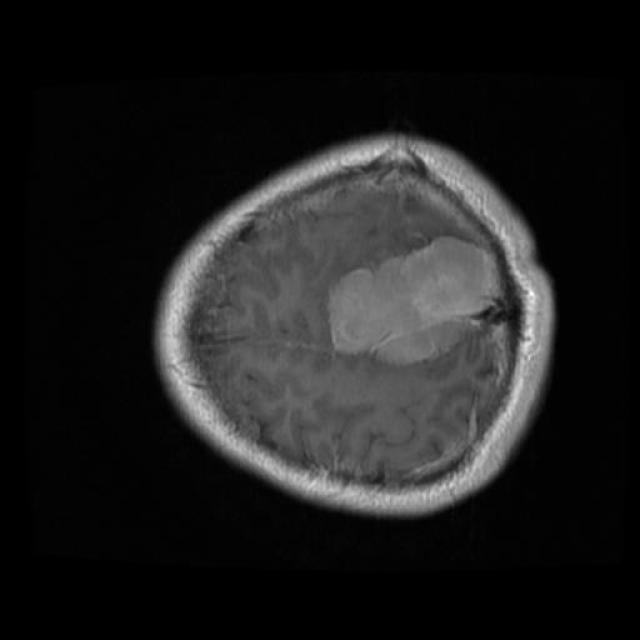Meningioma: (331, 236, 503, 363)
